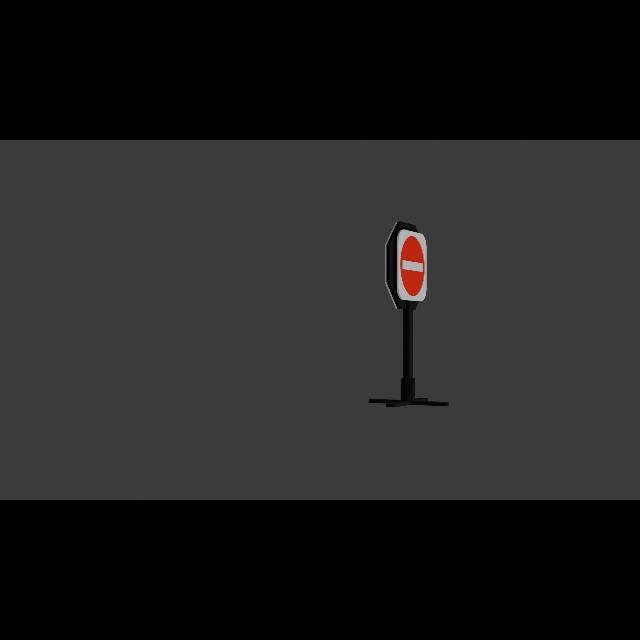sign_noentry: (399, 230, 429, 302)
